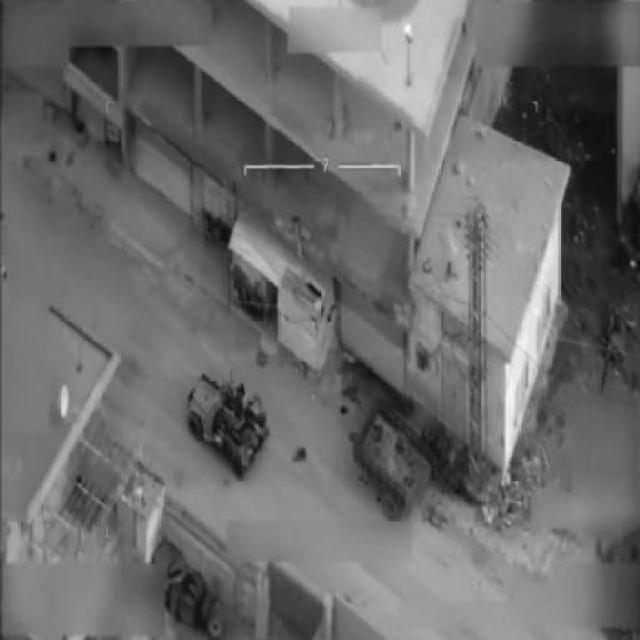Vehicle: (185, 365, 271, 479)
